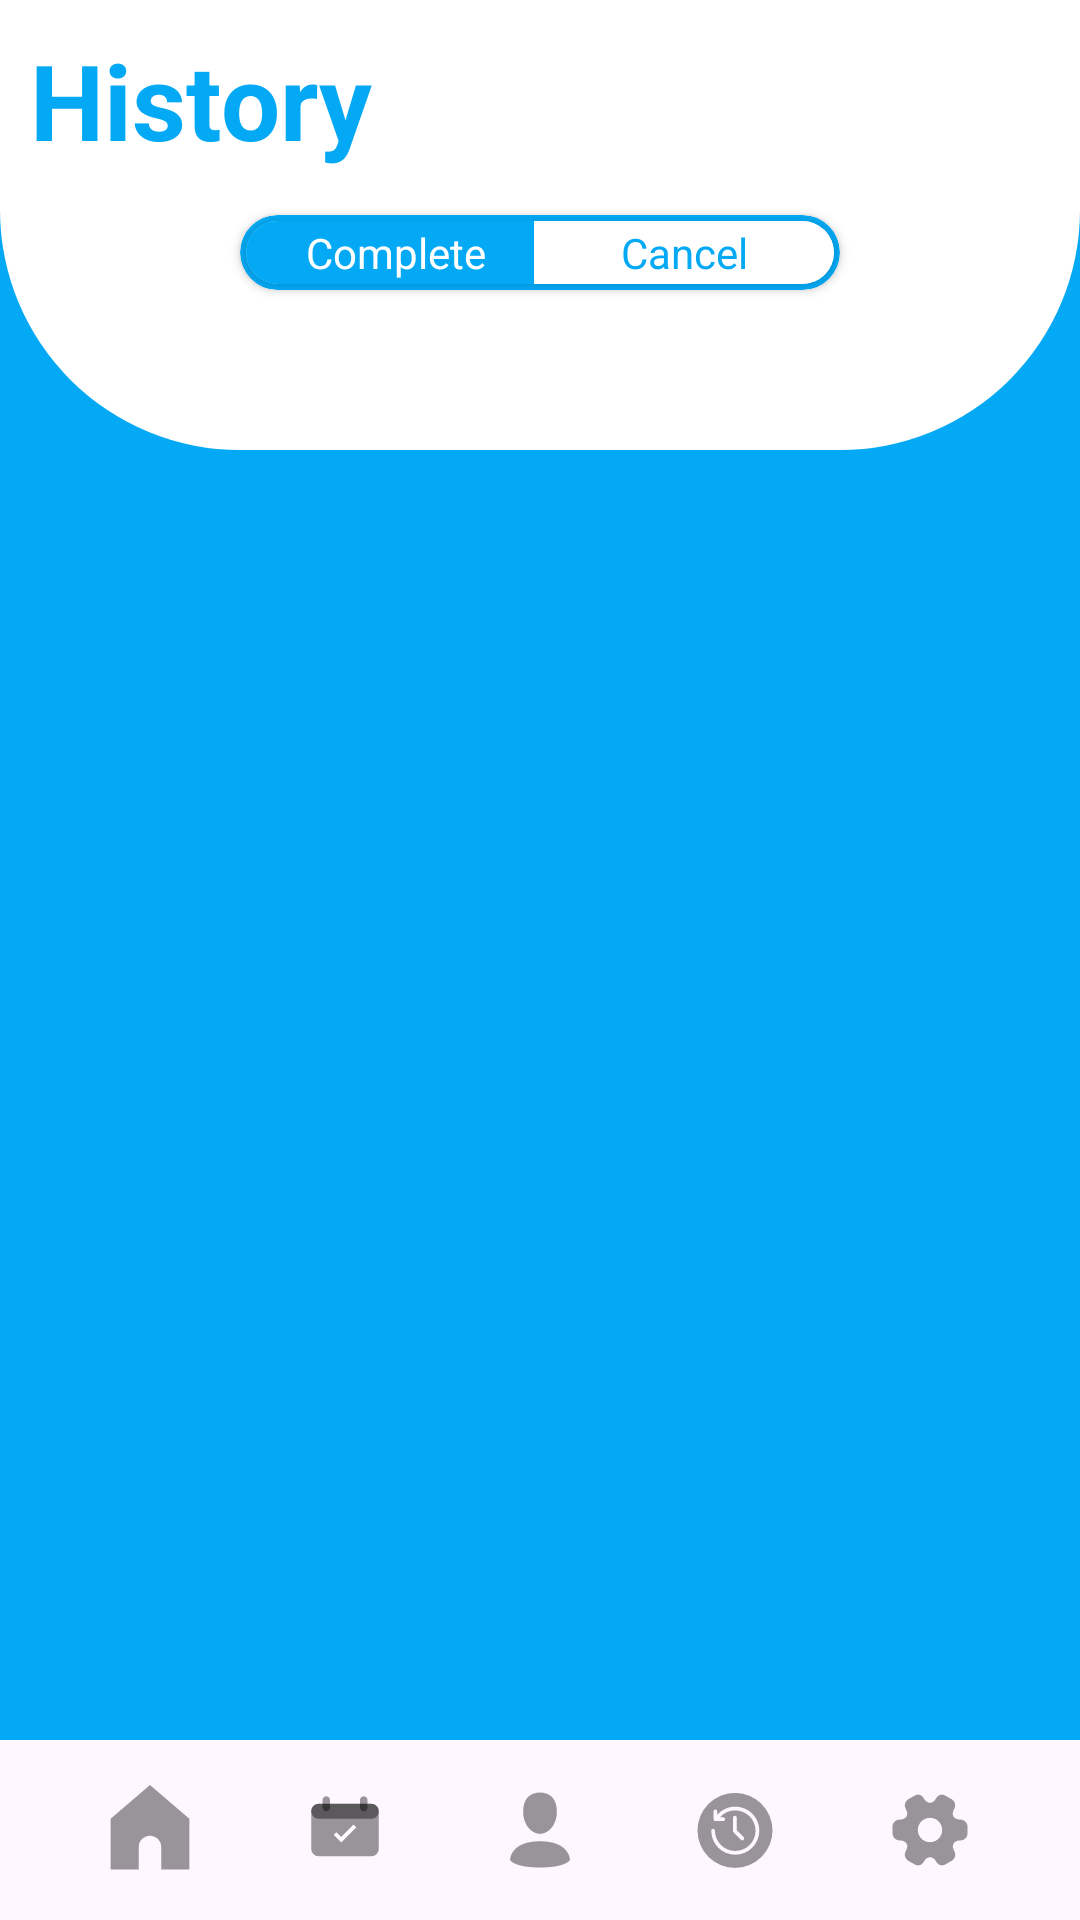

Icon click points for this 1080px×1920px phone screenshot, format [x,y]:
appointment: [345,1826]
history round: [735,1830]
home: [150,1827]
profile: [540,1830]
setting: [930,1830]
